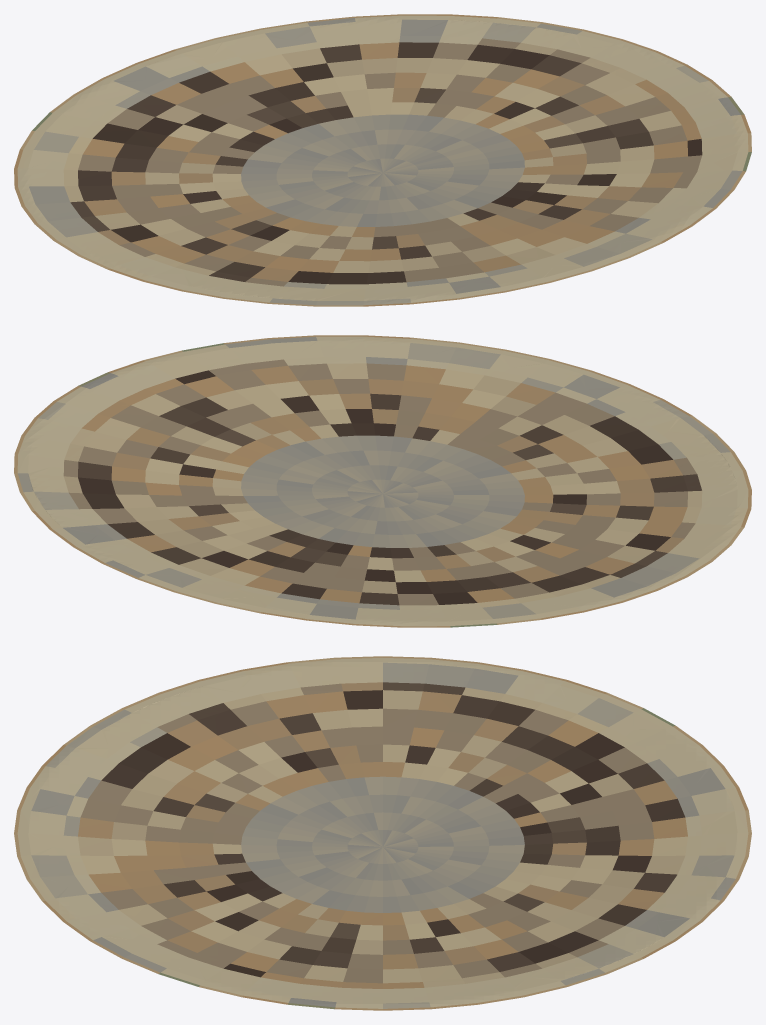
The model's file is liner_weir_pond.glb.
3 views of the same model, one above another, from view 1: azimuth 30°, elevation 25°; view 2: azimuth 150°, elevation 25°; view 3: azimuth 270°, elevation 25° (orthographic). The views are drawn at different scales.
Visible parts, largest first — view 1: liner_weir_pond_body; view 2: liner_weir_pond_body; view 3: liner_weir_pond_body.
Part boxes in pixels (x1,y1,x2,y2): liner_weir_pond_body: [14, 14, 751, 306]; liner_weir_pond_body: [14, 335, 751, 627]; liner_weir_pond_body: [14, 656, 751, 1010].
Size of the model in its own units: 166 by 3.07 by 146.
